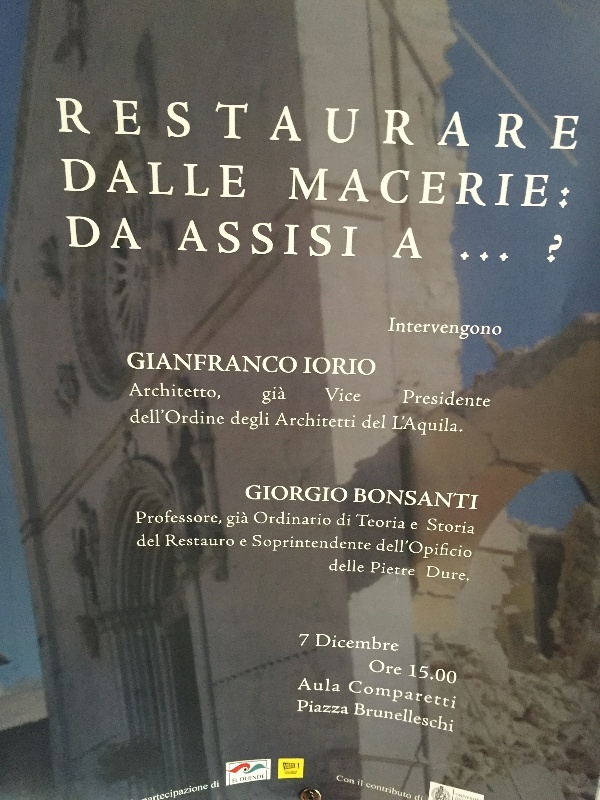text: (65, 94, 80, 155), (81, 94, 96, 155), (97, 94, 112, 155), (113, 94, 128, 155), (129, 94, 144, 155), (145, 94, 160, 155), (161, 94, 176, 155), (177, 94, 192, 155), (193, 94, 208, 155), (209, 94, 224, 155), (225, 94, 240, 155), (241, 94, 256, 155), (257, 94, 272, 155), (273, 94, 288, 155), (289, 94, 304, 155), (305, 94, 320, 155), (321, 94, 336, 155), (337, 94, 352, 155), (353, 94, 368, 155), (369, 94, 384, 155), (385, 94, 400, 155), (401, 94, 416, 155), (417, 94, 432, 155), (433, 94, 448, 155), (449, 94, 464, 155), (465, 94, 480, 155), (481, 94, 496, 155), (497, 94, 512, 155), (513, 94, 528, 155), (529, 94, 544, 155), (545, 94, 560, 155), (561, 94, 576, 155), (65, 157, 80, 205), (81, 157, 96, 205), (97, 157, 112, 205), (113, 157, 128, 205), (129, 157, 144, 205), (145, 157, 160, 205), (161, 157, 176, 205), (177, 157, 192, 205), (193, 157, 208, 205), (209, 157, 224, 205), (225, 157, 240, 205), (305, 166, 320, 214), (321, 166, 336, 214), (337, 166, 352, 214), (353, 166, 368, 214), (369, 166, 384, 214), (385, 166, 400, 214), (401, 166, 416, 214), (417, 166, 432, 214), (433, 166, 448, 214), (449, 166, 464, 214), (465, 166, 480, 214), (481, 166, 496, 214), (497, 166, 512, 214), (513, 166, 528, 214), (529, 166, 544, 214), (545, 166, 560, 214), (290, 166, 304, 214), (193, 217, 208, 261), (209, 217, 224, 261), (225, 217, 240, 261), (241, 217, 256, 261), (257, 217, 272, 261), (273, 217, 288, 261), (289, 217, 304, 261), (305, 217, 320, 261), (321, 217, 336, 261), (337, 217, 352, 261), (129, 213, 145, 253), (81, 213, 96, 253), (97, 213, 112, 253), (113, 213, 128, 253), (66, 213, 80, 253), (55, 94, 64, 155), (353, 679, 368, 713), (369, 679, 384, 713), (385, 679, 400, 713), (401, 679, 416, 713), (417, 679, 432, 713), (433, 679, 448, 713), (561, 166, 571, 214), (369, 702, 384, 734), (385, 702, 400, 734), (401, 702, 416, 734), (417, 702, 432, 734), (433, 702, 448, 734), (355, 702, 368, 734), (369, 487, 384, 513), (385, 487, 400, 513), (401, 487, 416, 513), (417, 487, 432, 513), (433, 487, 448, 513), (449, 487, 464, 513), (465, 487, 480, 513), (401, 316, 416, 341), (417, 316, 432, 341), (433, 316, 448, 341), (449, 316, 464, 341), (465, 316, 480, 341), (481, 316, 496, 341), (354, 487, 368, 513), (241, 409, 256, 432), (129, 351, 144, 374), (145, 351, 160, 374), (161, 351, 176, 374), (177, 351, 192, 374), (193, 351, 208, 374), (209, 351, 224, 374), (225, 351, 240, 374), (241, 351, 256, 374), (257, 351, 272, 374), (273, 351, 288, 374), (417, 663, 432, 686), (433, 663, 448, 686), (305, 355, 320, 377), (321, 355, 336, 377), (337, 355, 352, 377), (353, 355, 368, 377), (551, 230, 560, 266), (257, 483, 272, 504), (273, 483, 288, 504), (289, 483, 304, 504), (305, 483, 320, 504), (321, 483, 336, 504), (465, 247, 480, 267), (481, 247, 496, 267), (433, 516, 448, 536), (449, 516, 464, 536), (321, 633, 336, 653), (337, 633, 352, 653), (353, 633, 368, 653), (369, 633, 384, 653), (385, 633, 400, 653), (257, 409, 270, 432), (417, 389, 432, 408), (433, 389, 448, 408), (449, 389, 464, 408), (465, 389, 480, 408), (433, 417, 448, 436), (417, 540, 432, 559), (433, 540, 448, 559), (449, 540, 464, 559), (497, 247, 511, 267), (389, 316, 400, 341), (409, 222, 416, 261), (417, 222, 424, 261), (369, 413, 384, 431), (145, 382, 160, 400), (161, 382, 176, 400), (177, 382, 192, 400), (193, 382, 208, 400), (145, 407, 160, 425), (257, 534, 272, 552), (273, 534, 288, 552), (289, 534, 304, 552), (305, 534, 320, 552), (321, 534, 336, 552), (337, 534, 352, 552), (353, 534, 368, 552), (385, 659, 400, 677), (418, 417, 432, 436), (449, 417, 463, 436), (353, 217, 359, 261), (273, 386, 286, 406), (401, 415, 417, 431), (289, 412, 304, 429), (305, 412, 320, 429), (321, 412, 336, 429), (337, 412, 352, 429), (369, 513, 384, 530), (385, 513, 400, 530), (369, 783, 384, 800), (385, 783, 400, 800), (577, 94, 581, 155), (241, 157, 246, 205), (209, 410, 225, 425), (145, 510, 160, 526), (161, 510, 176, 526), (177, 510, 192, 526), (193, 510, 208, 526), (257, 511, 272, 527), (273, 511, 288, 527), (289, 511, 304, 527), (305, 511, 320, 527), (385, 561, 400, 577), (433, 565, 448, 581), (449, 565, 464, 581), (305, 677, 320, 693), (321, 677, 336, 693), (449, 679, 456, 713), (245, 483, 256, 504), (337, 483, 348, 504), (404, 389, 416, 408), (228, 510, 240, 529), (337, 387, 352, 402), (177, 410, 192, 425), (193, 410, 208, 425), (145, 533, 160, 548), (385, 538, 400, 553), (305, 700, 320, 715), (321, 700, 336, 715), (401, 561, 415, 577), (465, 516, 476, 536), (209, 382, 221, 400), (132, 407, 144, 425), (372, 659, 384, 677), (337, 559, 352, 573), (481, 389, 492, 408), (209, 510, 222, 526), (371, 561, 384, 577), (289, 351, 298, 374), (356, 513, 368, 530), (338, 513, 352, 527), (177, 534, 192, 547), (193, 534, 208, 547), (209, 534, 224, 547), (401, 783, 412, 800), (232, 409, 240, 432), (449, 663, 457, 686), (263, 386, 272, 406), (337, 700, 349, 715), (369, 355, 377, 377), (321, 511, 332, 527), (325, 387, 336, 402), (135, 382, 144, 400), (449, 702, 454, 734), (353, 559, 364, 573), (241, 510, 249, 529), (337, 775, 352, 785), (165, 534, 176, 547), (211, 779, 224, 790), (410, 663, 416, 686), (353, 387, 362, 402), (167, 410, 176, 425), (241, 538, 256, 547), (465, 540, 472, 559), (225, 534, 235, 547), (136, 510, 144, 526), (497, 316, 502, 341), (401, 538, 409, 553), (241, 775, 256, 783), (393, 415, 400, 431), (561, 230, 564, 266), (377, 538, 384, 553), (297, 700, 304, 715), (282, 412, 288, 429), (62, 157, 64, 205), (411, 540, 416, 559), (363, 413, 368, 431), (138, 533, 144, 548), (401, 513, 406, 530), (330, 559, 336, 573), (305, 633, 311, 647), (460, 247, 464, 267), (427, 565, 432, 581), (465, 565, 470, 581), (358, 779, 368, 787), (316, 633, 320, 653), (161, 407, 165, 425), (257, 775, 265, 783), (337, 677, 341, 693), (429, 516, 432, 536), (456, 793, 464, 800), (253, 534, 256, 552), (369, 534, 372, 552), (191, 217, 192, 261), (412, 521, 416, 532), (233, 778, 240, 784), (417, 794, 424, 800), (301, 633, 304, 647), (289, 764, 295, 770), (401, 659, 403, 677), (353, 412, 355, 429), (254, 511, 256, 527), (470, 797, 480, 800), (465, 793, 469, 800), (289, 772, 298, 775), (284, 764, 288, 770), (127, 351, 128, 374), (385, 413, 386, 431), (367, 783, 368, 800), (417, 521, 418, 532), (353, 775, 354, 785), (285, 772, 288, 775)
